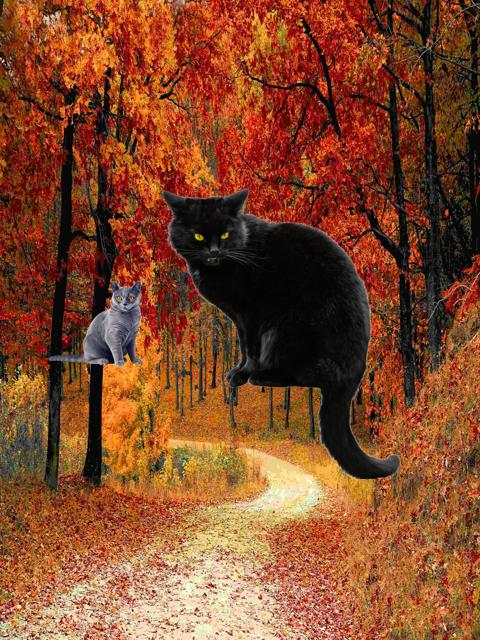cat: (163, 180, 399, 477), (49, 278, 149, 368)
